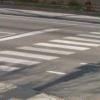crosswalk: (0, 31, 99, 72)
